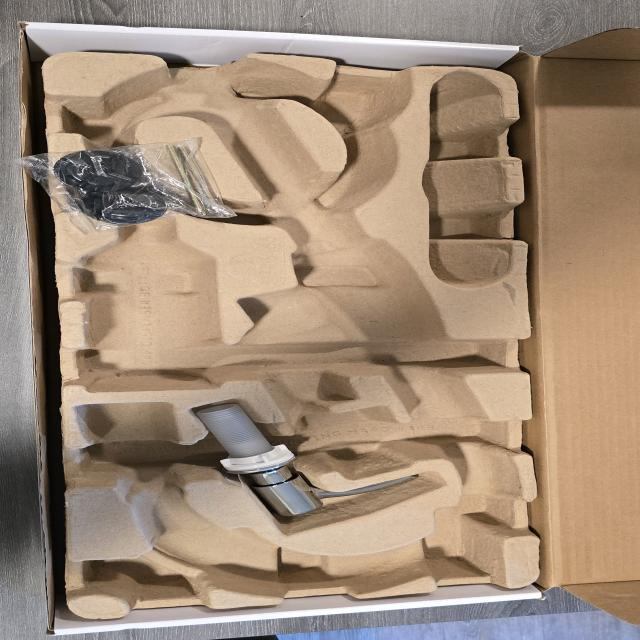1m: (76, 59, 522, 592)
2: (192, 404, 421, 520)
3m: (84, 218, 220, 393)
4m: (419, 71, 512, 290)
5m: (315, 77, 402, 132)
6m: (61, 90, 167, 135)
7: (8, 137, 240, 233)
